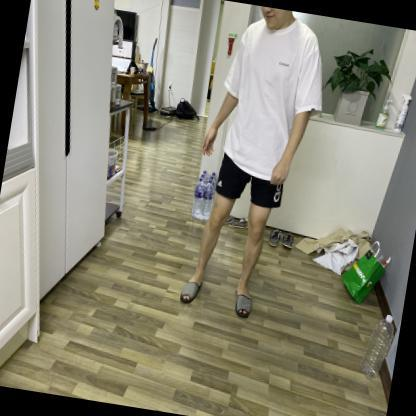no_safety-shoe: (222, 277, 259, 324), (175, 268, 211, 314)
